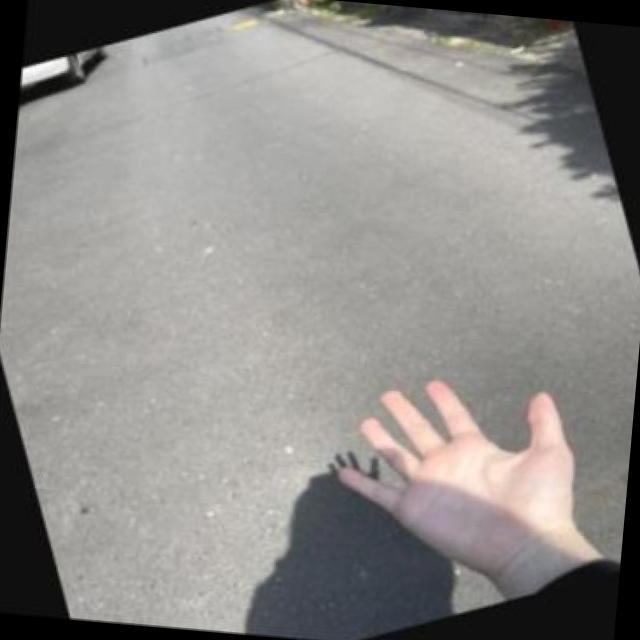without_gloves: (285, 311, 634, 640)
